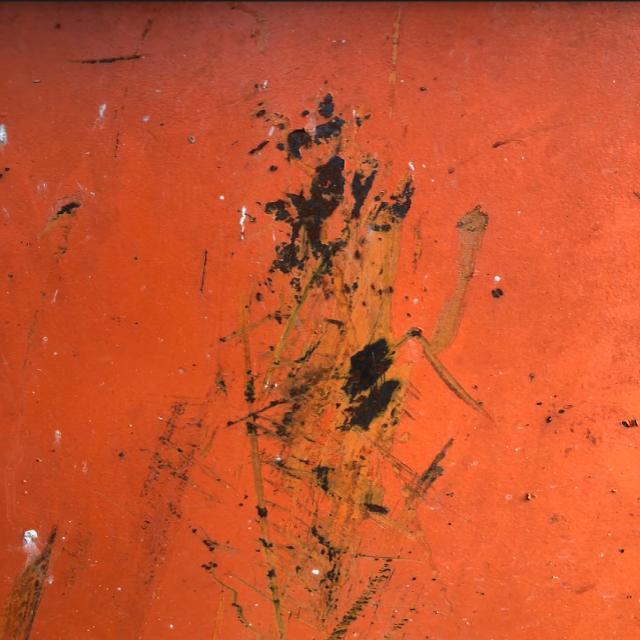Corrosion: (0, 1, 639, 638), (203, 89, 496, 637)
